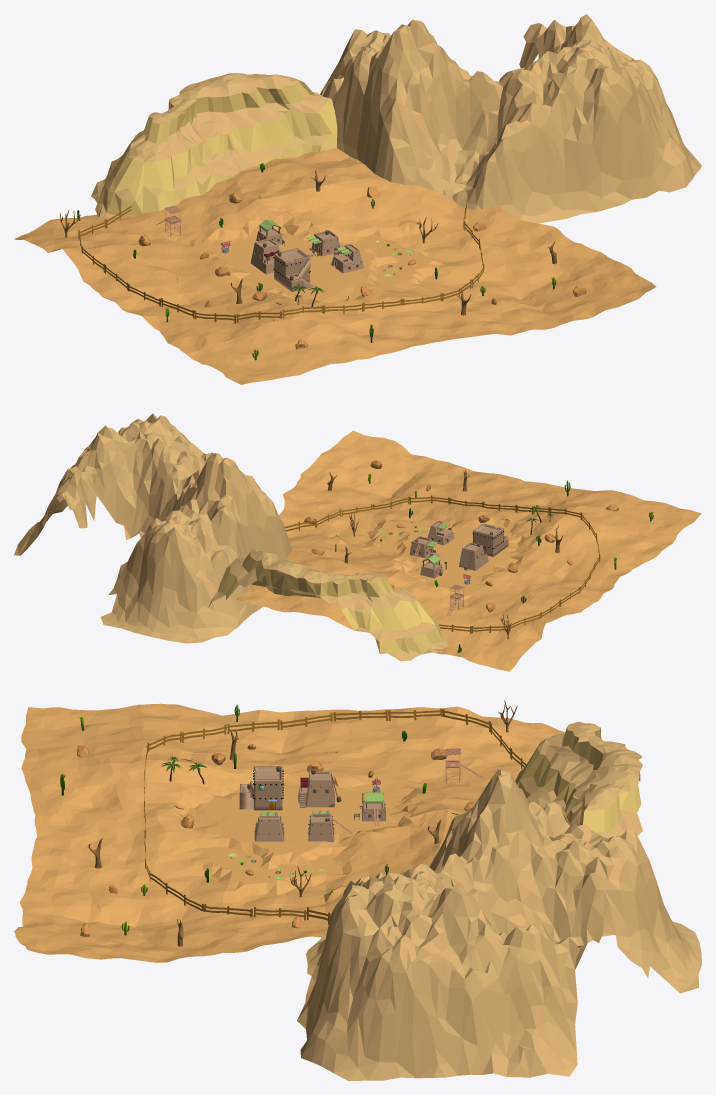
The model's file is MAPP.fbx.
The picture shows the model from 3 angles, top to bottom: view 1: azimuth 30°, elevation 25°; view 2: azimuth 150°, elevation 25°; view 3: azimuth 270°, elevation 25°; orthographic projection. The views are drawn at different scales.
Visible parts, largest first — view 1: Ground, Mounting_2, Mounting_3, House.002, House_4, House_1, House_2.001; view 2: Ground, Mounting_2, Mounting_3, House.002, House_4, House_1, House_2.001; view 3: Ground, Mounting_2, Mounting_3, House.002, House_4, House_1, House_2.001, House_3.
Boxes of the visible parts, <box> form: Ground: <box>14,148,656,384</box>; Mounting_2: <box>320,14,701,223</box>; Mounting_3: <box>91,73,337,217</box>; House.002: <box>273,248,314,291</box>; House_4: <box>250,238,279,274</box>; House_1: <box>331,244,363,273</box>; House_2.001: <box>306,230,340,256</box>; Ground: <box>235,430,701,671</box>; Mounting_2: <box>14,413,292,643</box>; Mounting_3: <box>208,548,448,661</box>; House.002: <box>472,523,508,556</box>; House_4: <box>459,542,488,570</box>; House_1: <box>427,521,454,545</box>; House_2.001: <box>409,536,437,557</box>; Ground: <box>14,703,564,962</box>; Mounting_2: <box>297,769,701,1080</box>; Mounting_3: <box>515,721,642,936</box>; House.002: <box>239,766,283,810</box>; House_4: <box>298,771,337,807</box>; House_1: <box>254,811,284,841</box>; House_2.001: <box>308,810,334,842</box>; House_3: <box>359,792,385,821</box>.
Bounding box in the file's own units: 20131 × 4872 × 16653.
